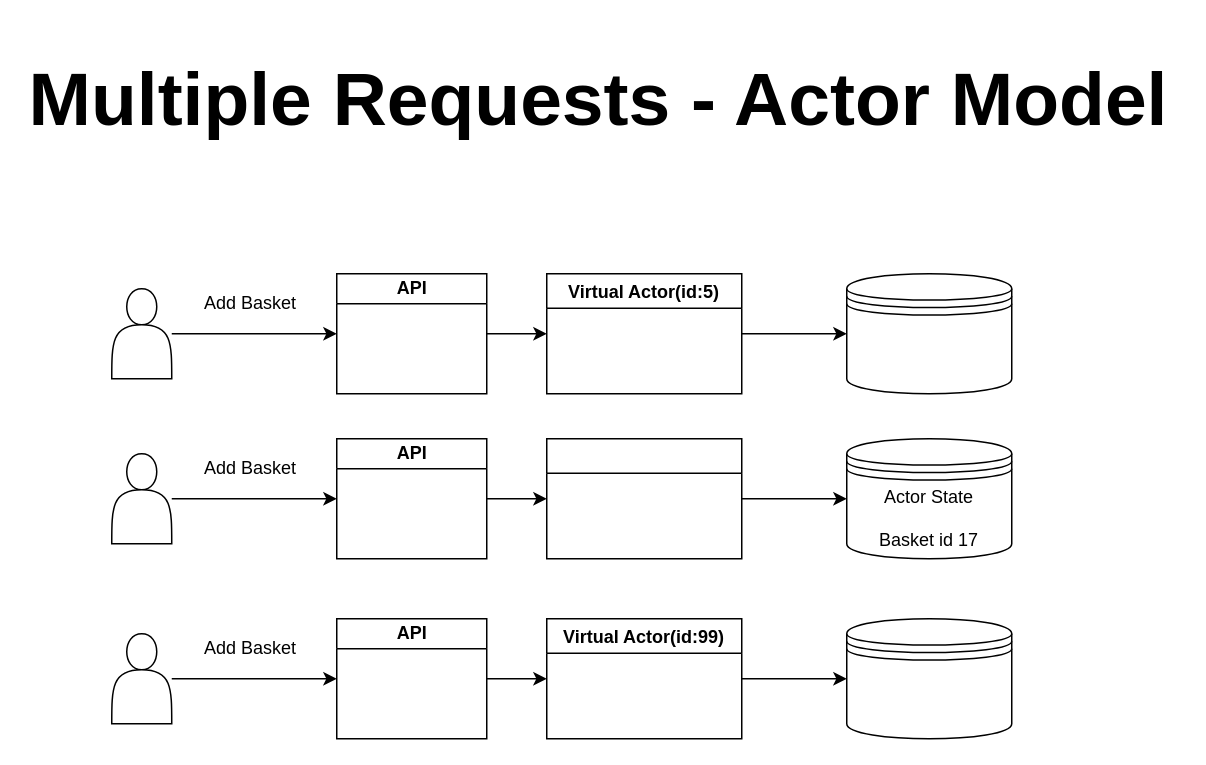
Image size: 1206x765. Some labels were removed from this diagram. The shapes that lost their labels are listed below. From the top down, each one's centre as x and y in pixels, then its label:
point 928,333: Actor State Basket id 5
point 643,498: Virtual Actor(id:17)
point 928,678: Actor State Basket id 99
